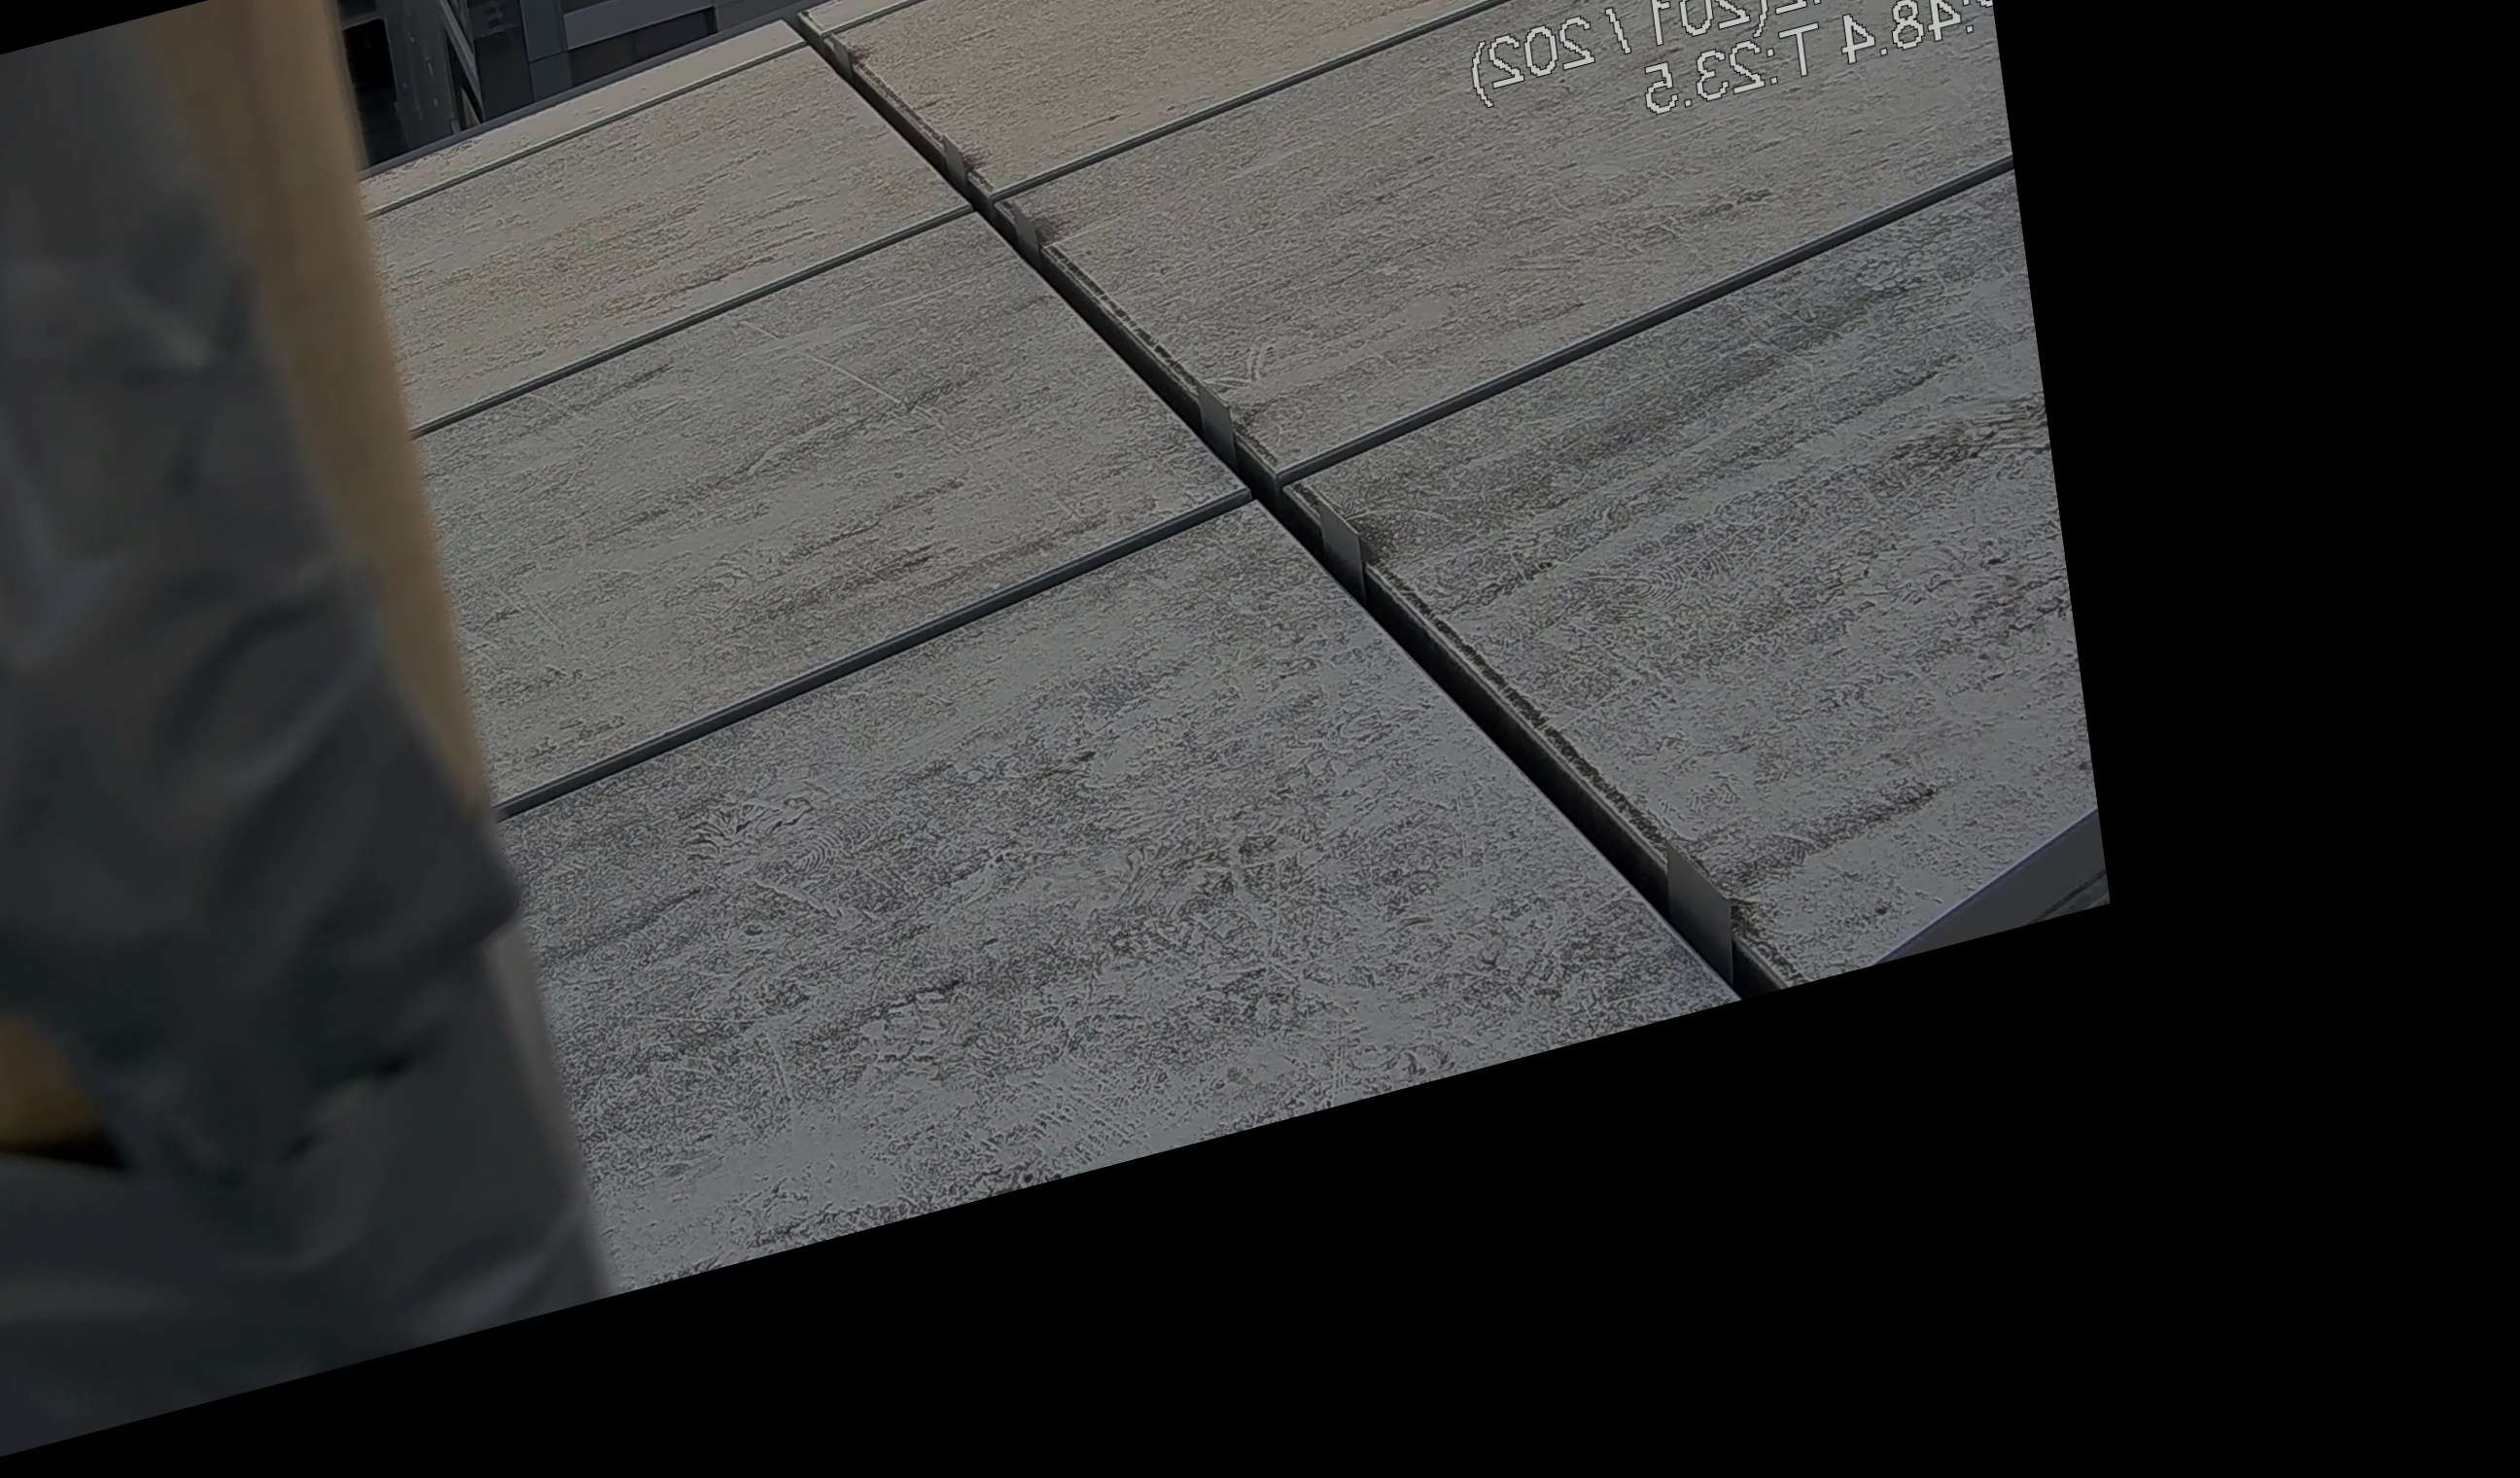Other: (0, 0, 617, 1478)
